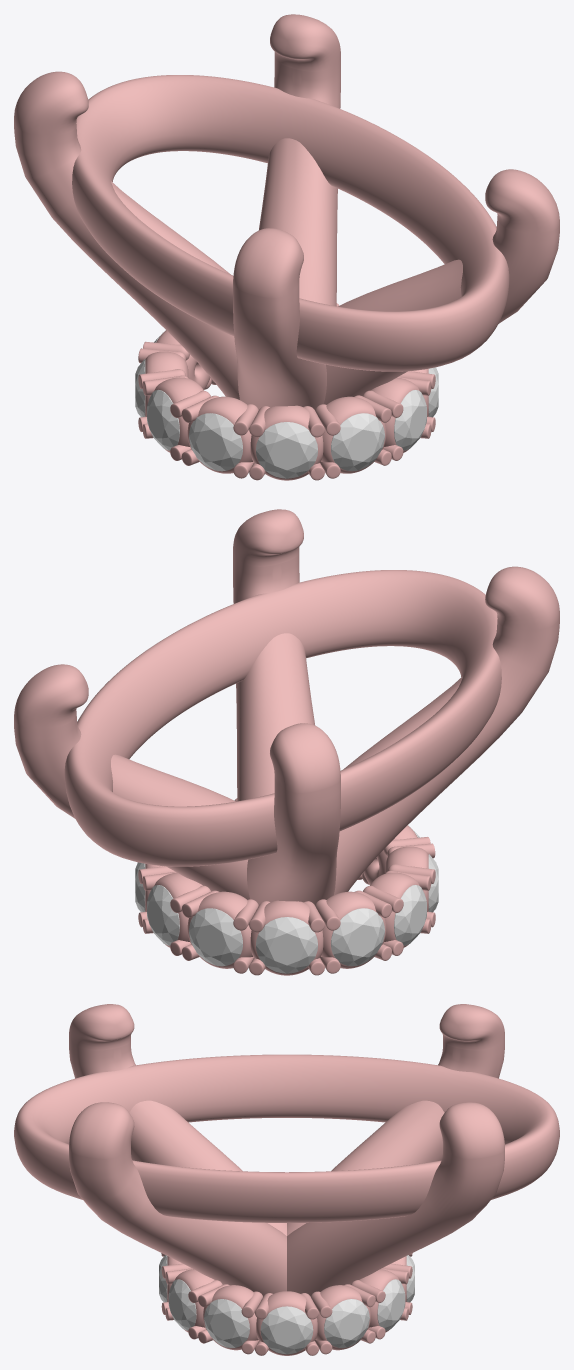
File: MOVAL.glb
3 renders of one model, top to bottom at view 1: azimuth 30°, elevation 25°; view 2: azimuth 150°, elevation 25°; view 3: azimuth 270°, elevation 25°, orthographic. The views are drawn at different scales.
Parts seen in each view (by area): view 1: oval.002, hidden halo.006, hidden halo - diamonds.006; view 2: oval.002, hidden halo.006, hidden halo - diamonds.006; view 3: oval.002, hidden halo.006, hidden halo - diamonds.006.
Part boxes in pixels (x1,y1,x2,y2): oval.002: (14, 14, 559, 410); hidden halo.006: (138, 303, 435, 480); hidden halo - diamonds.006: (135, 332, 438, 478); oval.002: (14, 509, 559, 905); hidden halo.006: (138, 798, 435, 975); hidden halo - diamonds.006: (135, 827, 438, 973); oval.002: (14, 1004, 559, 1296); hidden halo.006: (161, 1253, 412, 1355); hidden halo - diamonds.006: (159, 1255, 414, 1354).
Size of the model in its own units: 4.55 by 4.48 by 8.01.
